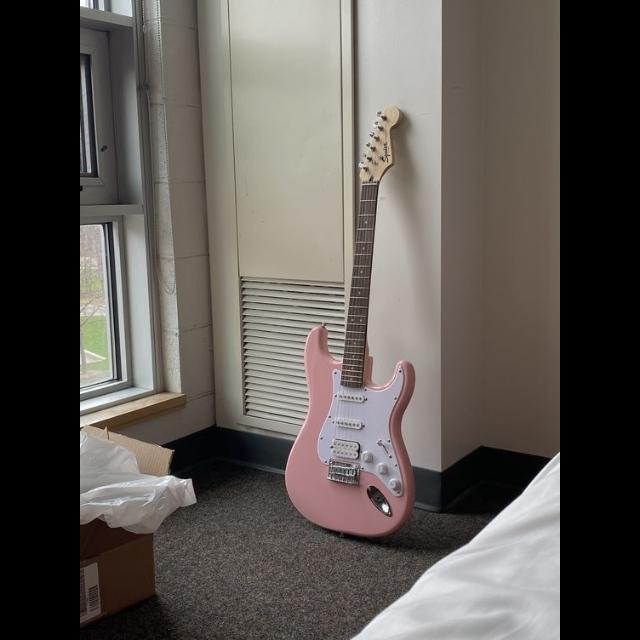Electric-Guitar: (255, 86, 479, 558)
